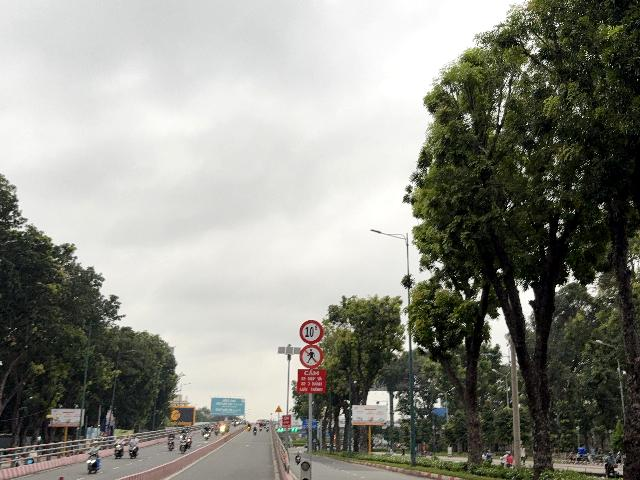cam-nguoi-di-bo: (300, 344, 323, 369)
han-che-trong-luong-xe: (300, 320, 324, 344)
